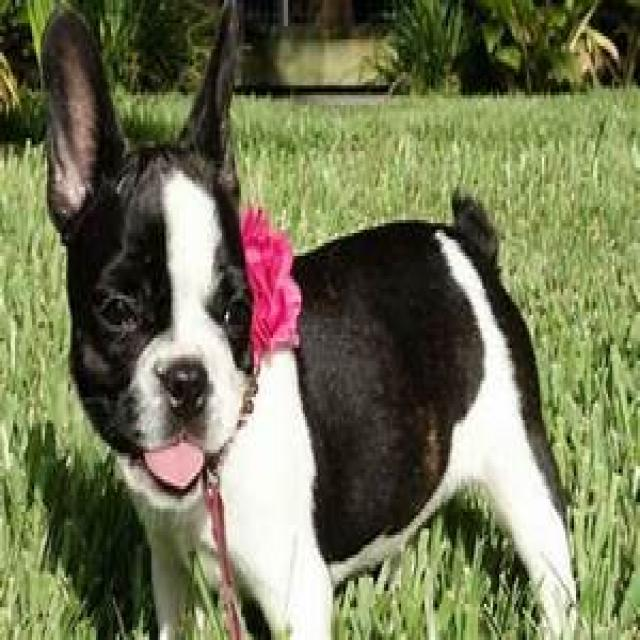KOPEK: (37, 5, 583, 640)
